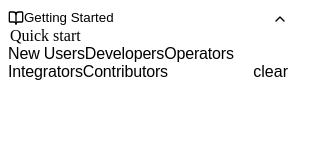
it: DocsSidebar › keeps each section control target in the document while collapsed
Click the button with aria-label "Collapse Getting Started section": (69, 18) top-left (8, 8), bottom-right (288, 27)
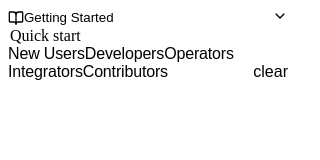
Result: the button named "Collapse Getting Started section" is collapsed at top-left (8, 8), bottom-right (288, 27)
